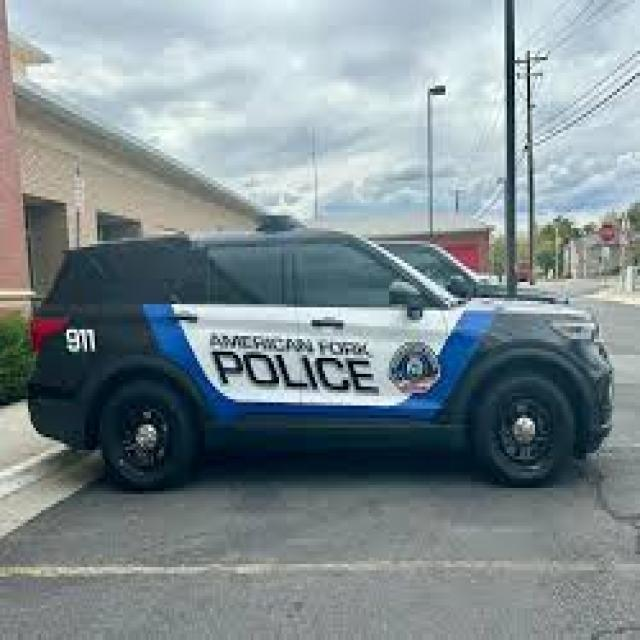cop: (27, 222, 618, 494)
